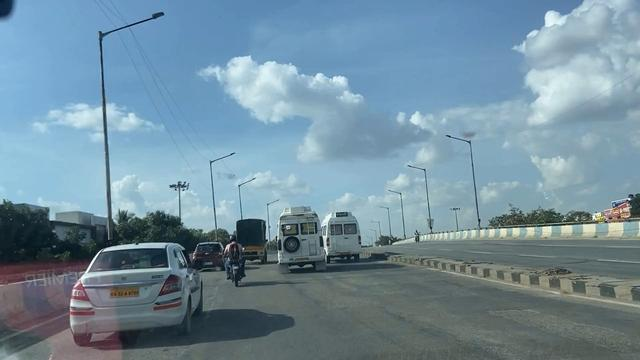HMV: (270, 202, 325, 272), (325, 207, 367, 268)
LMV: (65, 231, 203, 348), (220, 226, 253, 287)
